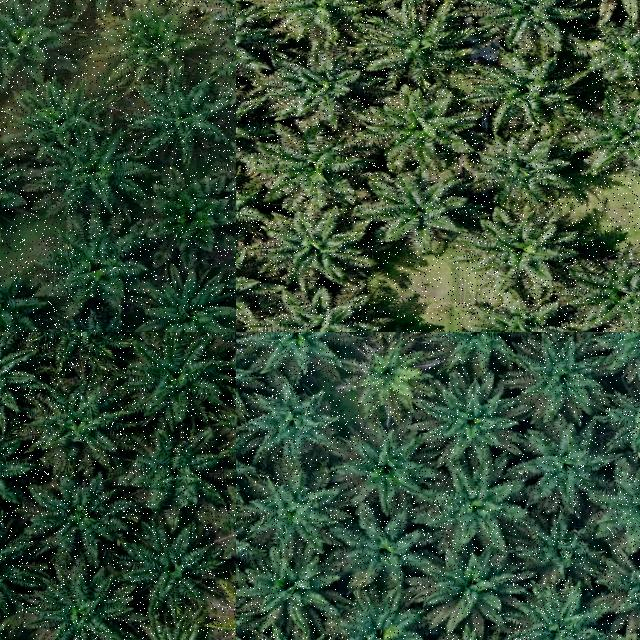Ganoderma: (352, 347, 420, 403)
